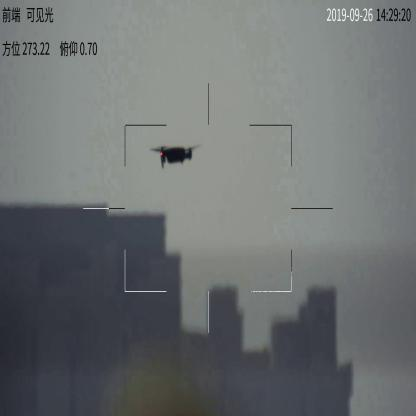uav: (149, 143, 202, 168)
